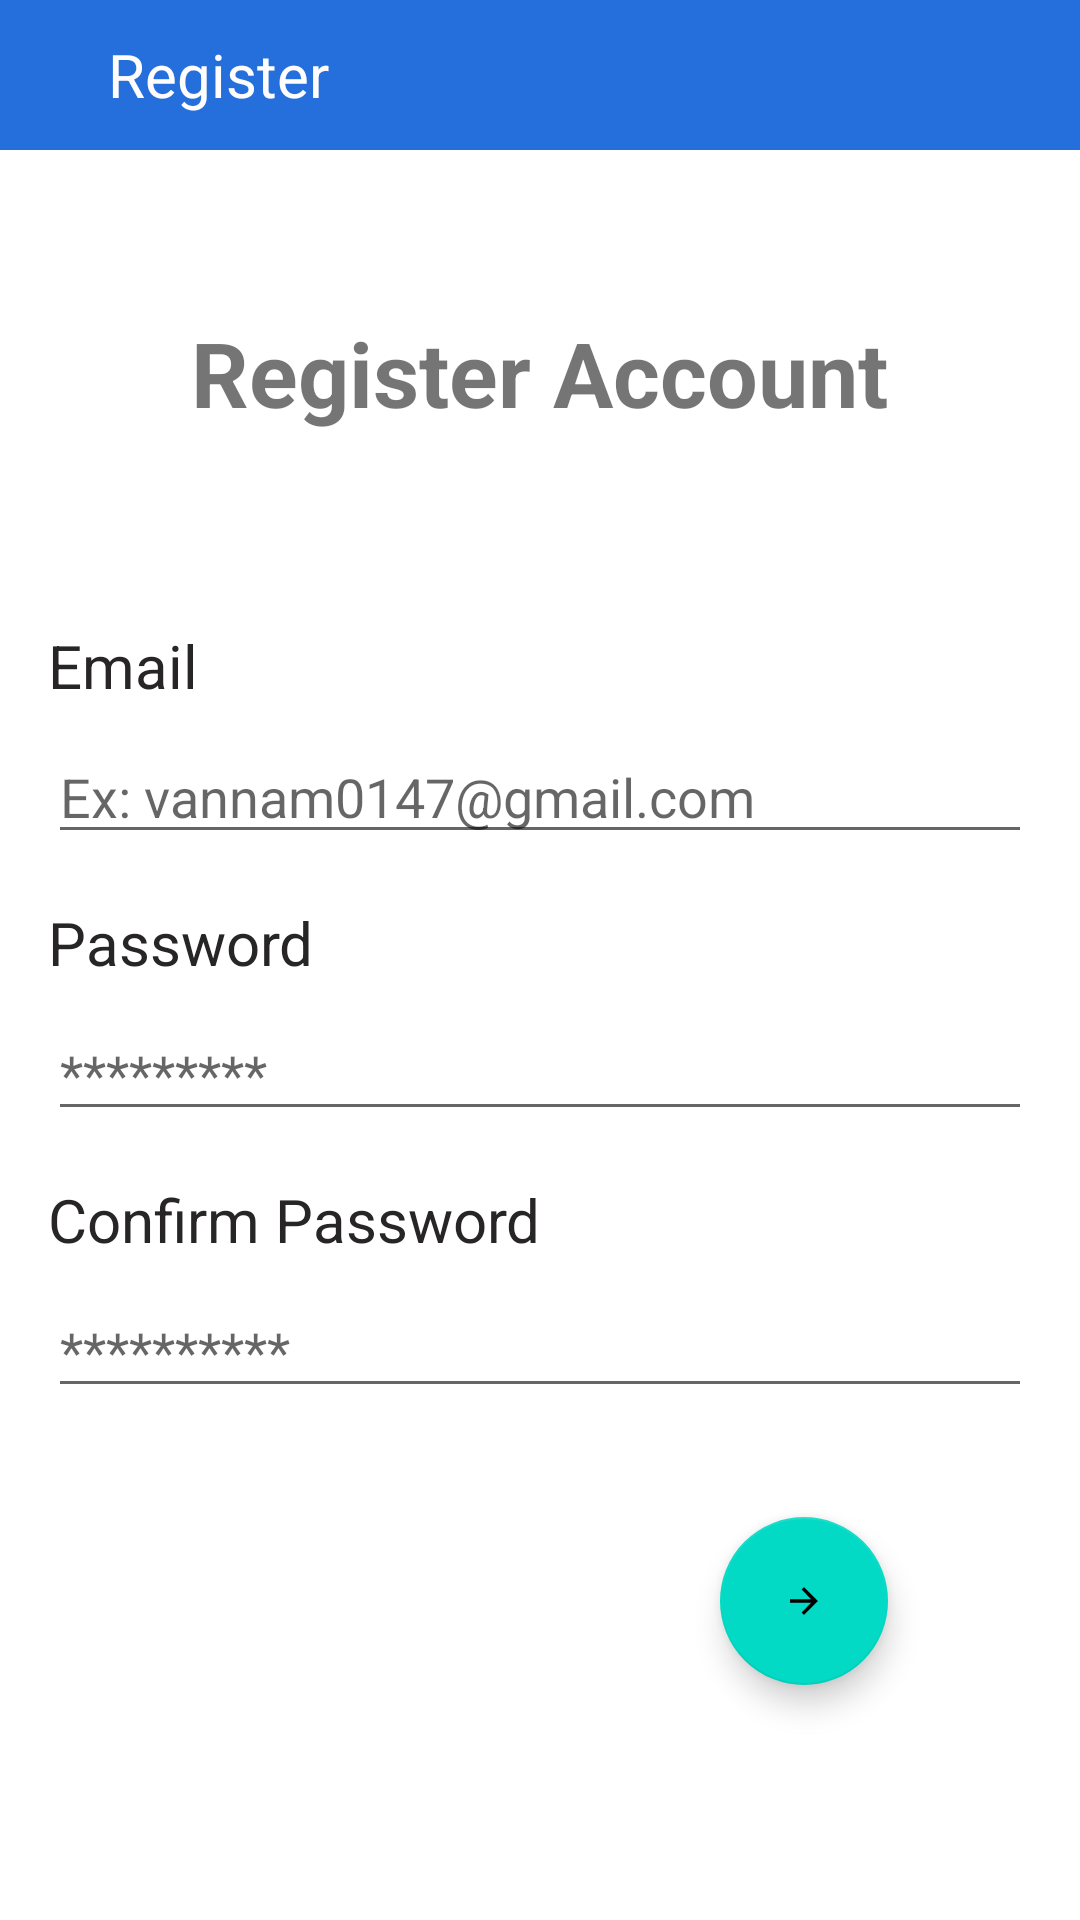

Icon bounding boxes for this 1080w x 1920h phone screenshot, format (x1, y1, x2, y2):
forward: (720, 1517, 888, 1685)
